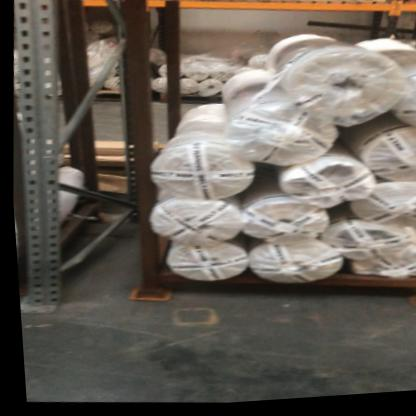vertical_damage: (16, 277, 66, 322)
